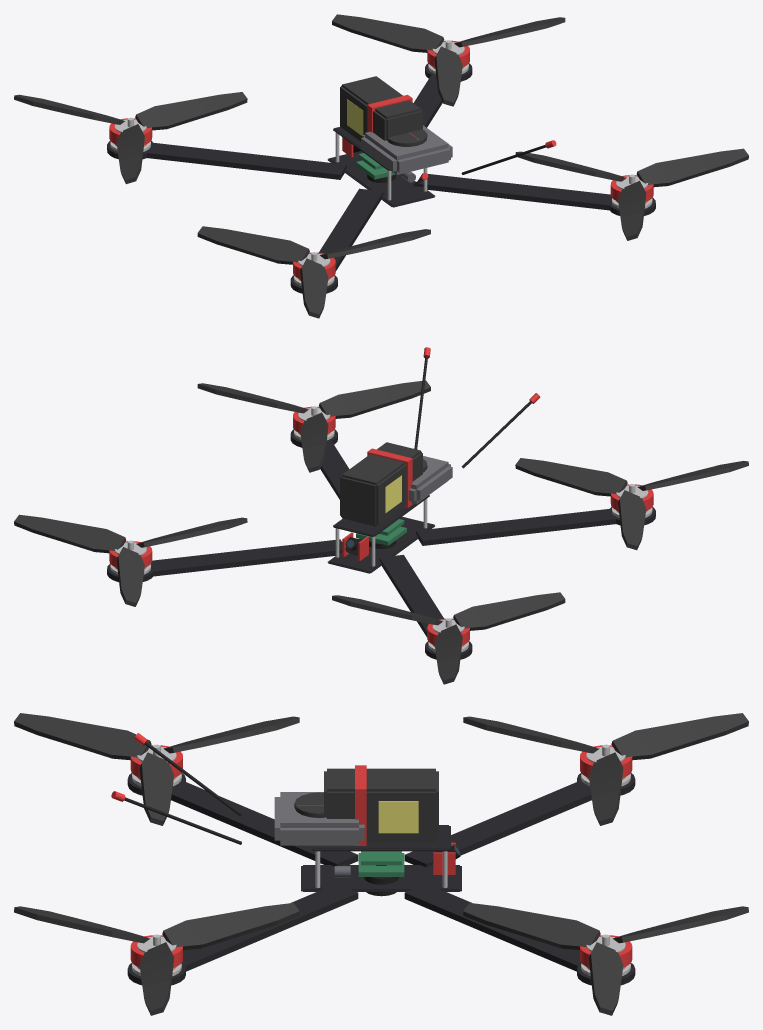
The model's file is xclass.glb.
3 views of the same model, one above another, from view 1: azimuth 30°, elevation 25°; view 2: azimuth 150°, elevation 25°; view 3: azimuth 270°, elevation 25° (orthographic). The views are drawn at different scales.
Parts seen in each view (by area): view 1: body, prop_FL, prop_RL, prop_FR, prop_RR; view 2: body, prop_FL, prop_RL, prop_FR, prop_RR; view 3: body, prop_FL, prop_FR, prop_RR, prop_RL.
Part boxes in pixels (bbox=[...]): body: bbox=[107, 40, 655, 293]; prop_FL: bbox=[14, 92, 395, 184]; prop_RL: bbox=[197, 226, 430, 318]; prop_FR: bbox=[332, 14, 565, 106]; prop_RR: bbox=[515, 148, 748, 240]; body: bbox=[107, 347, 655, 659]; prop_FL: bbox=[332, 540, 565, 684]; prop_RL: bbox=[515, 458, 748, 550]; prop_FR: bbox=[14, 514, 247, 606]; prop_RR: bbox=[197, 380, 430, 472]; body: bbox=[111, 733, 635, 985]; prop_FL: bbox=[364, 713, 748, 896]; prop_FR: bbox=[463, 903, 748, 1015]; prop_RR: bbox=[14, 903, 299, 1015]; prop_RL: bbox=[14, 713, 299, 825].
Bounding box in the file's own units: 0.7135 × 0.1524 × 0.7527.
